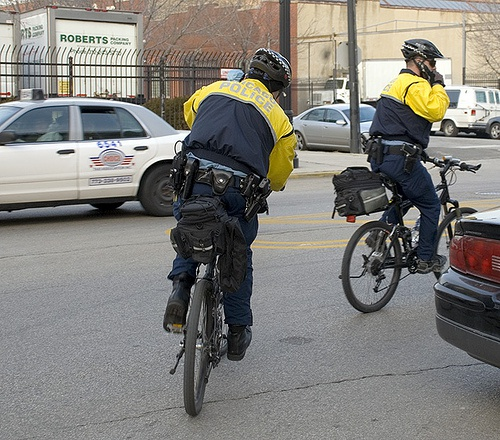non-vehicle: (344, 147, 477, 312), (169, 251, 230, 411)
